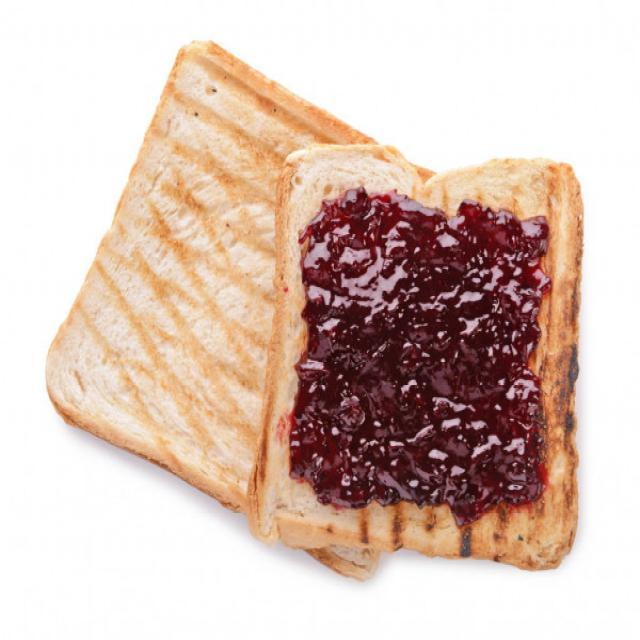Spread: (291, 188, 545, 510)
